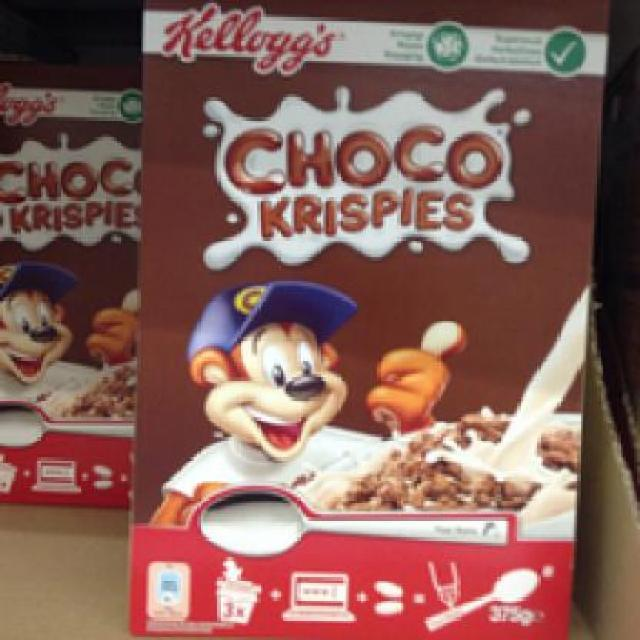Cereal: (140, 0, 609, 637)
